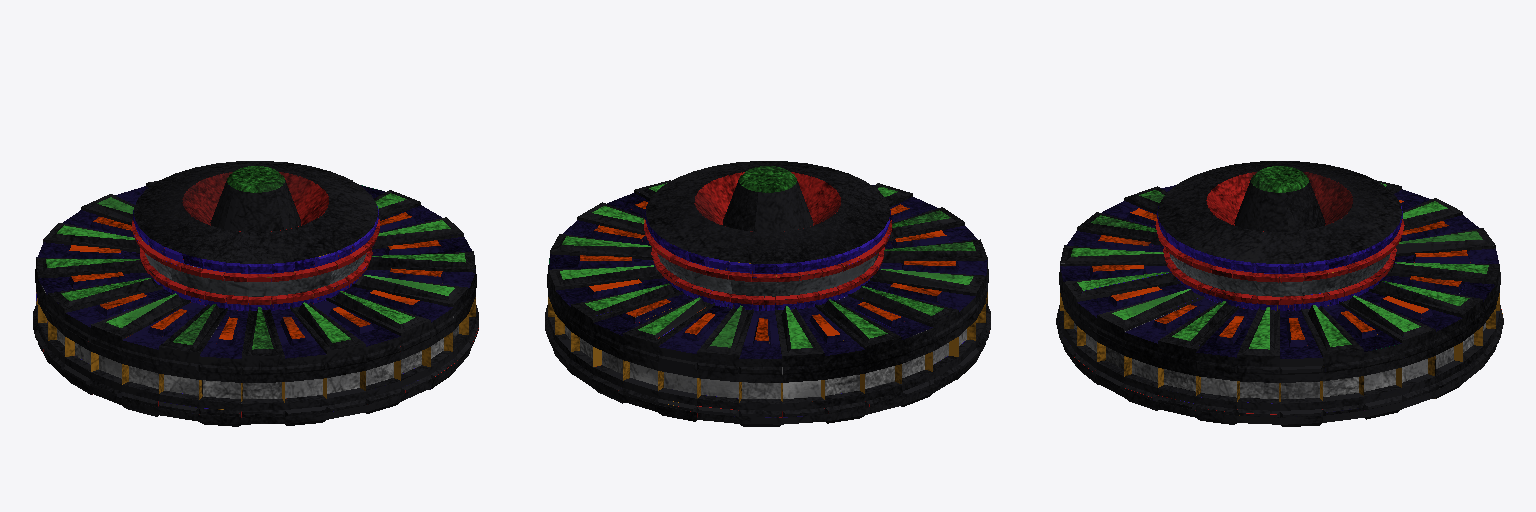
3 views of the same model, side by side, from view 1: azimuth 30°, elevation 25°; view 2: azimuth 150°, elevation 25°; view 3: azimuth 270°, elevation 25° (orthographic).
Visible parts, largest first — view 1: Circle.026_Circle.001; view 2: Circle.026_Circle.001; view 3: Circle.026_Circle.001.
Boxes of the visible parts, <box> form: Circle.026_Circle.001: <box>33,161,478,426</box>; Circle.026_Circle.001: <box>545,161,990,426</box>; Circle.026_Circle.001: <box>1056,161,1503,426</box>.
Bounding box in the file's own units: 116 × 45.45 × 116.
Materials: 10 (1 with a texture image).